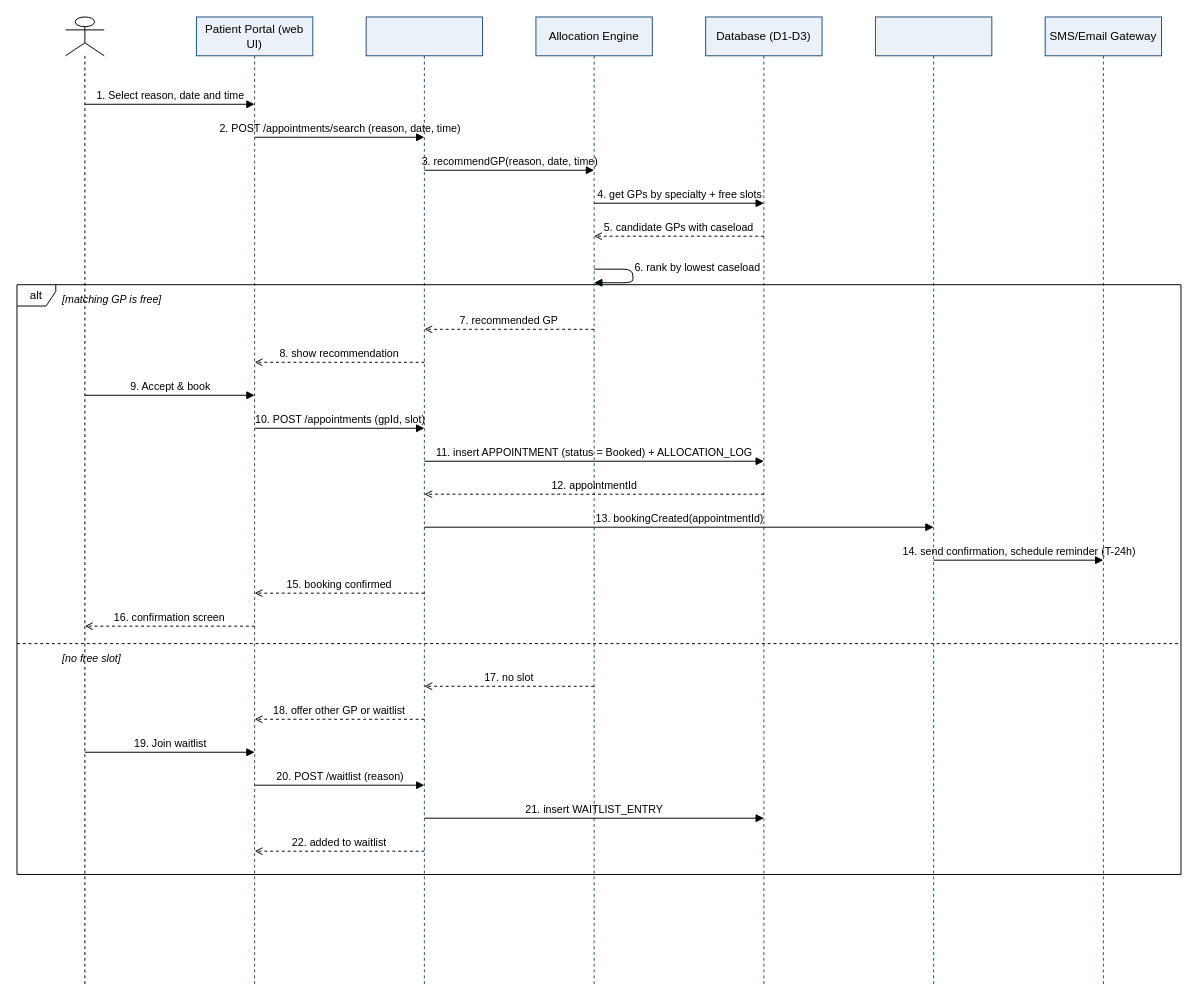
The diagram is 1199 pixels wide and 1002 high, and some of its shapes have lost their labels. The box of each missing label's shape, as (x1, y1, x2, y2) in pixels:
Booking API: (365, 16, 483, 985)
Notification Service: (874, 16, 992, 985)
Patient: (65, 16, 104, 985)
